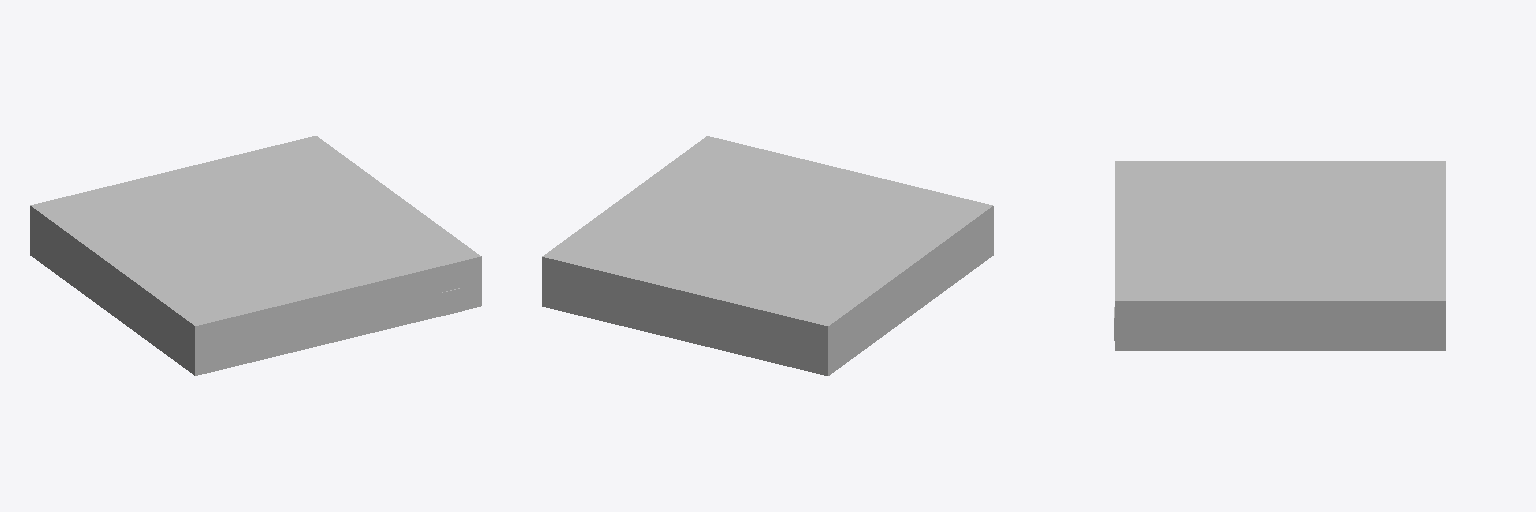
Rendered from interior.obj.
The picture shows the model from 3 angles: view 1: azimuth 30°, elevation 25°; view 2: azimuth 150°, elevation 25°; view 3: azimuth 270°, elevation 25°; orthographic projection.
Parts seen in each view (by area): view 1: Cube; view 2: Cube; view 3: Cube.
Boxes of the visible parts, box(x1,y1,x2,y2) form: Cube: box(30, 136, 481, 375); Cube: box(542, 136, 993, 375); Cube: box(1114, 161, 1445, 350).
Bounding box in the file's own units: 30 × 5 × 30.06.